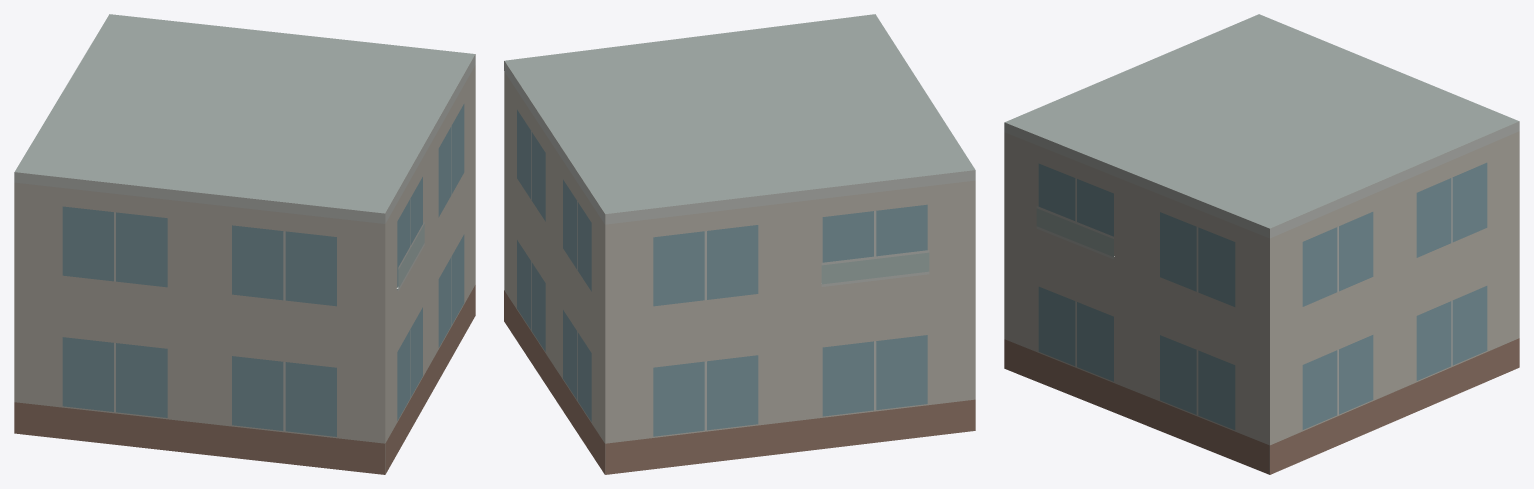
Rendered from survey-upis-32723907.glb.
The picture shows the model from 3 angles, left to right: view 1: azimuth 30°, elevation 25°; view 2: azimuth 150°, elevation 25°; view 3: azimuth 270°, elevation 25°; orthographic projection. The views are drawn at different scales.
Visible parts, largest first — view 1: survey-upis-32723907.tmp; view 2: survey-upis-32723907.tmp; view 3: survey-upis-32723907.tmp.
Boxes of the visible parts, x1,y1,x2,y2 form: survey-upis-32723907.tmp: [14, 14, 475, 474]; survey-upis-32723907.tmp: [504, 14, 975, 474]; survey-upis-32723907.tmp: [1004, 14, 1519, 474].
Size of the model in its own units: 11.41 by 6.1 by 11.57.
